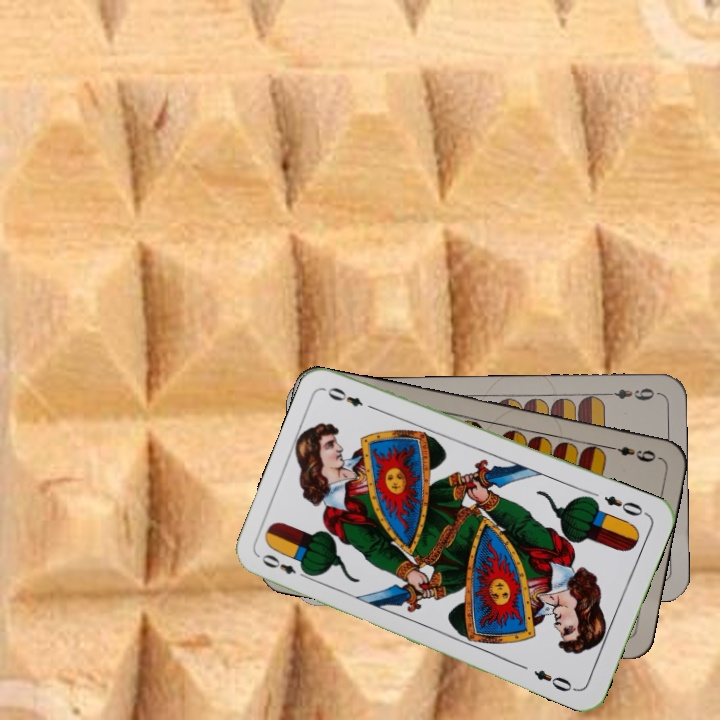E9: (603, 441, 661, 465), (601, 384, 660, 403)
EO: (257, 550, 313, 583), (600, 491, 650, 519)
